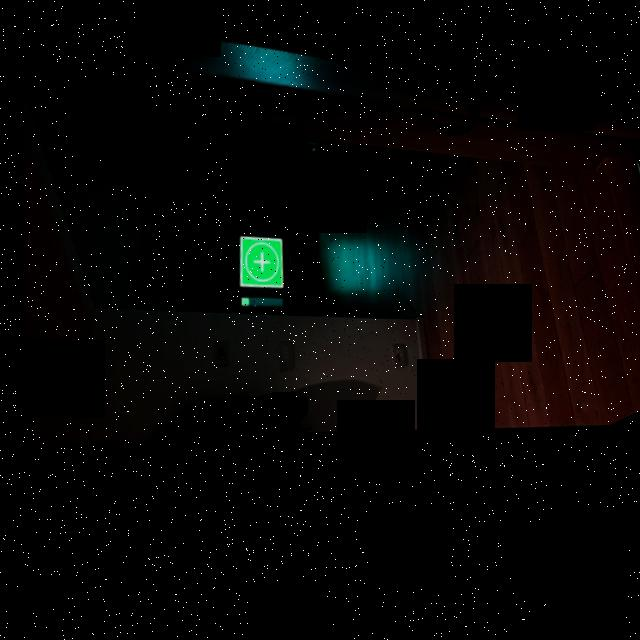Marker: (233, 239, 281, 295), (268, 164, 280, 182)
